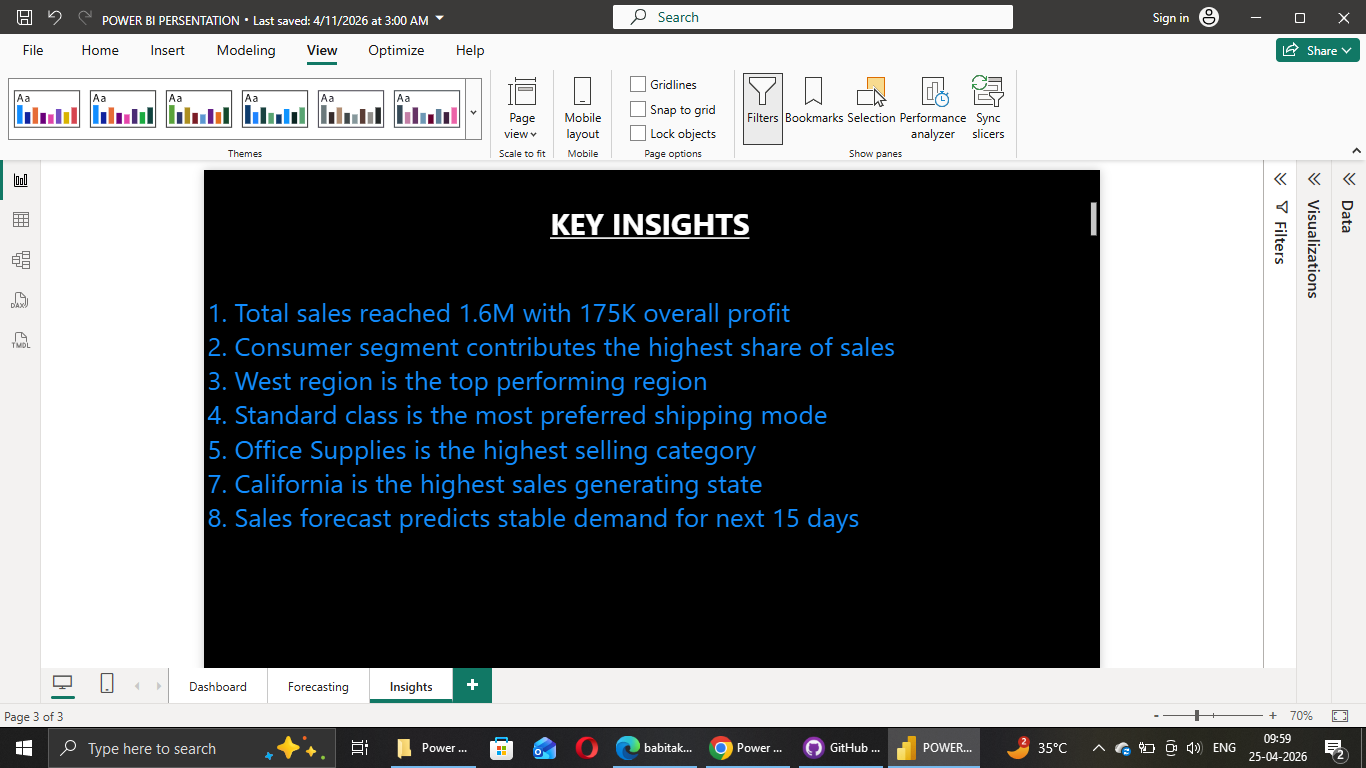

The dashboard page shown, as its layout file describes it:
{"tool":"powerbi","page":{"name":"Insights","canvas":[1280,720],"ordinal":2},"visuals":[{"type":"textbox","box":[0,41.8,1280.2,61.9],"z":0},{"type":"textbox","box":[0,171.5,1279.8,420.9],"z":1000}]}

Visuals, with their boxes on the page's 1280x720 design canvas (x1, y1, x2, y2). These are canvas units, not pixel positions in the 1366x768 screenshot, which may show the page scaled, cropped or inside an application window:
textbox: {"left": 0, "top": 42, "right": 1280, "bottom": 104}
textbox: {"left": 0, "top": 172, "right": 1280, "bottom": 592}
